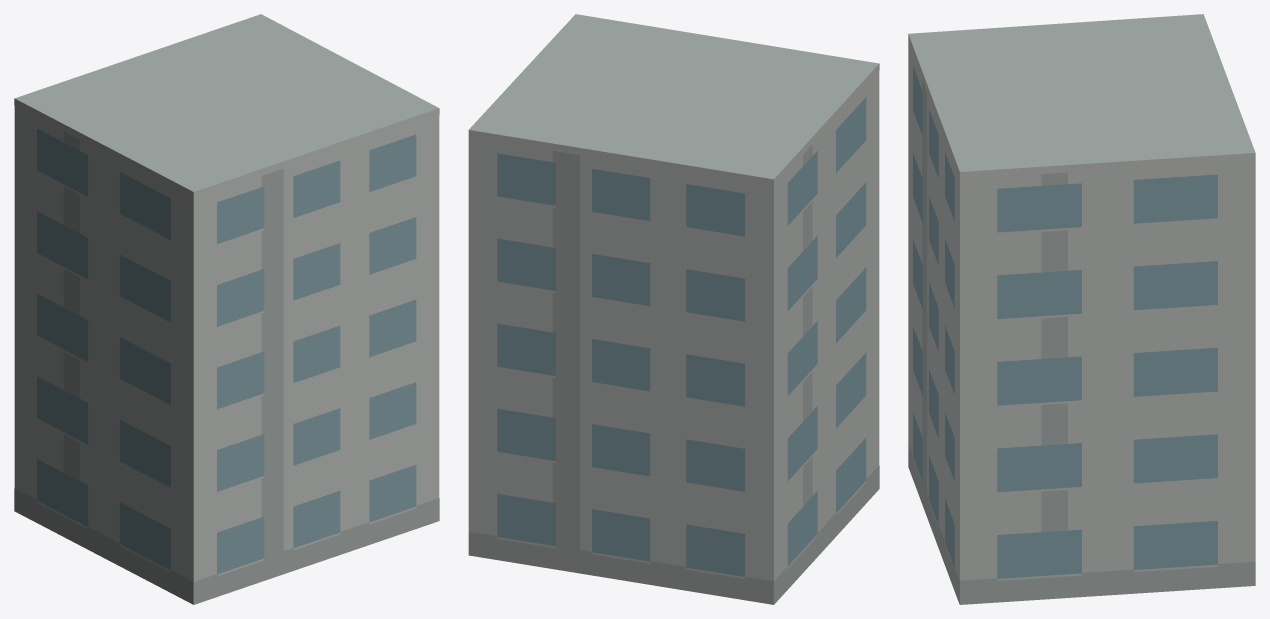
File: survey-upis-32575898.glb
3 renders of one model, left to right at view 1: azimuth 30°, elevation 25°; view 2: azimuth 150°, elevation 25°; view 3: azimuth 270°, elevation 25°, orthographic. The views are drawn at different scales.
Parts seen in each view (by area): view 1: survey-upis-32575898.tmp; view 2: survey-upis-32575898.tmp; view 3: survey-upis-32575898.tmp.
Part boxes in pixels (left/top/right/bottom): survey-upis-32575898.tmp: left=14, top=14, right=439, bottom=604; survey-upis-32575898.tmp: left=468, top=14, right=879, bottom=604; survey-upis-32575898.tmp: left=908, top=14, right=1255, bottom=604.
Size of the model in its own units: 11.12 by 14.2 by 10.34.
